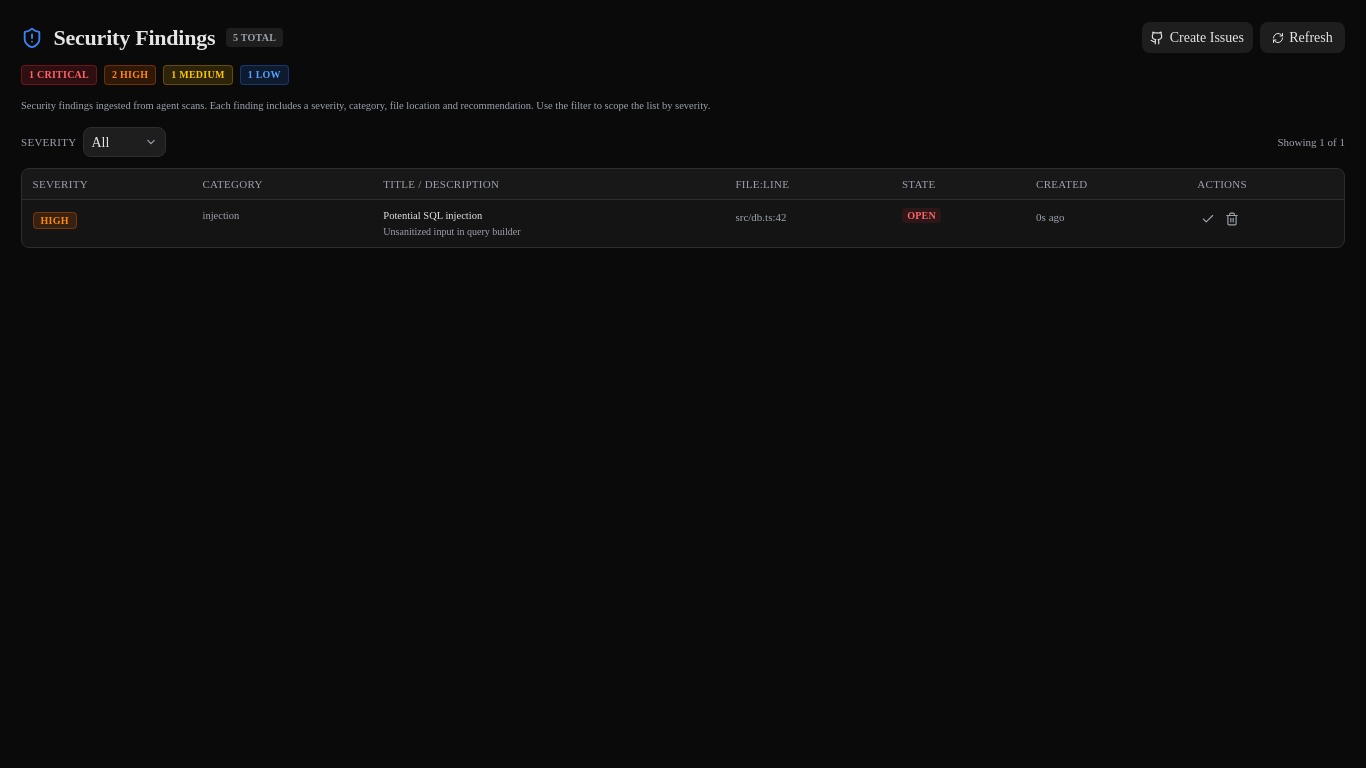
Test: SecurityFindingsPage › dismiss action › opens a confirm dialog when dismiss is clicked
The image size is (1366, 768).
Click the button with test id "dismiss-btn-f-1". click: [1232, 219]
box: [1222,209,1243,230]
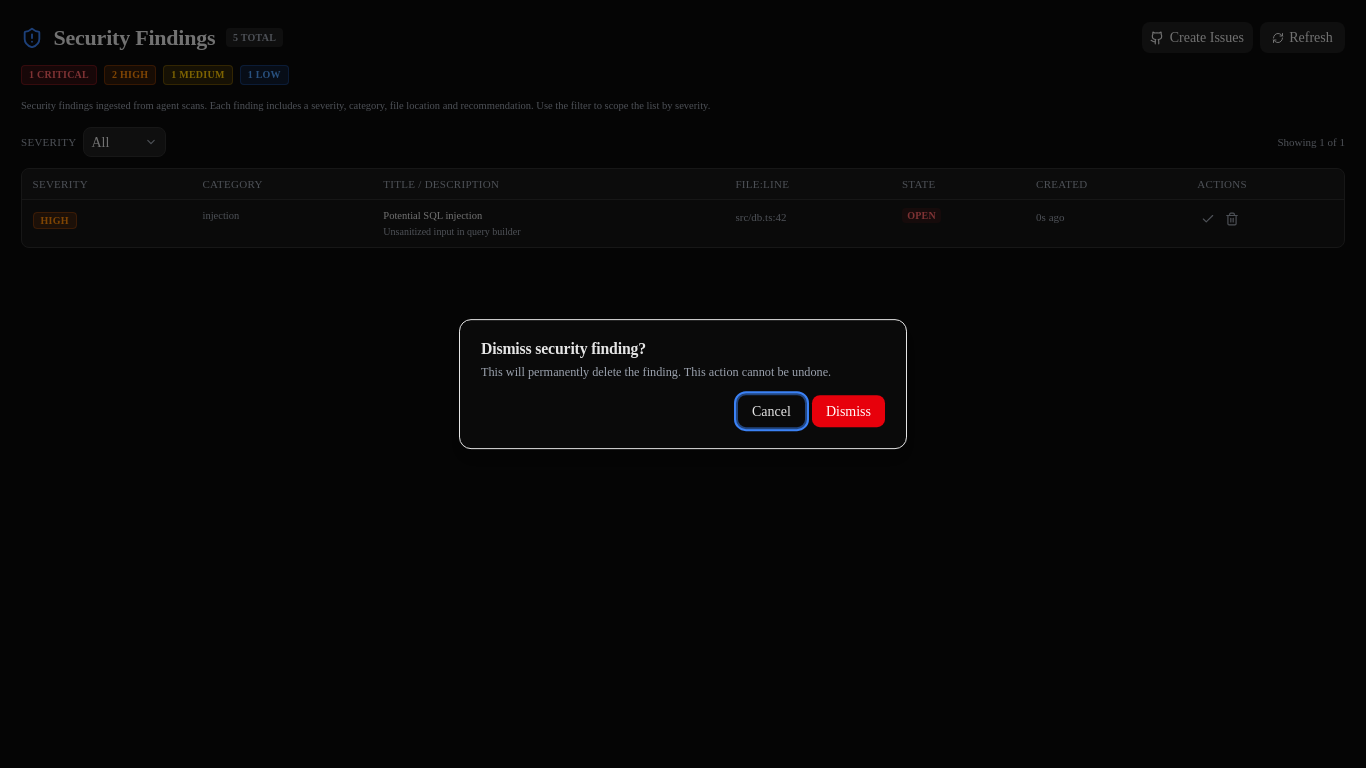
Expected: the dialog with test id "confirm-dialog" is shown, [459,319,907,449]
Expected: the heading "Dismiss security finding?" is shown, [481,340,646,357]
